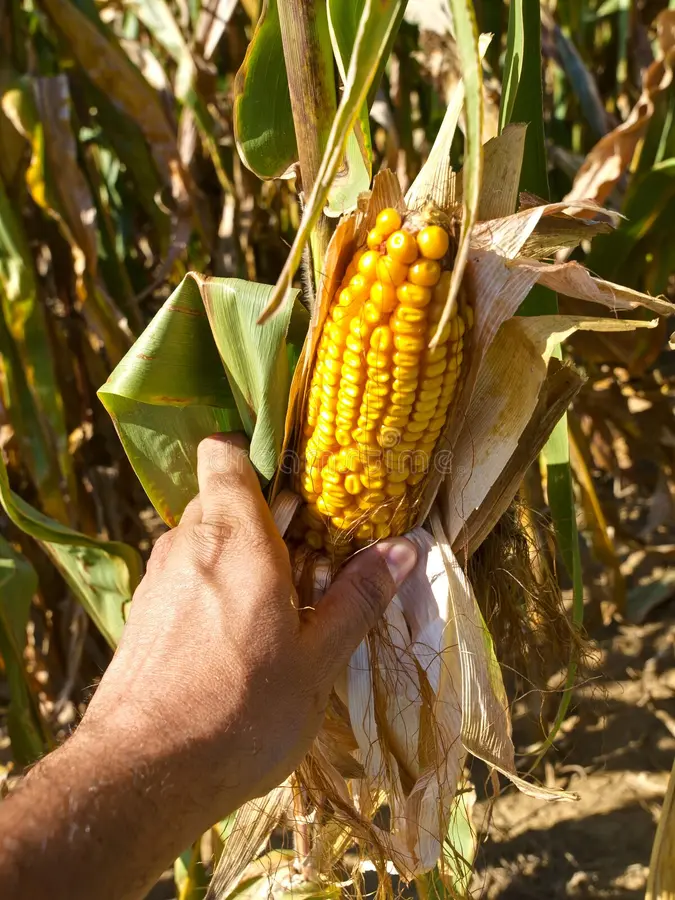rotten corn: (225, 149, 544, 806)
